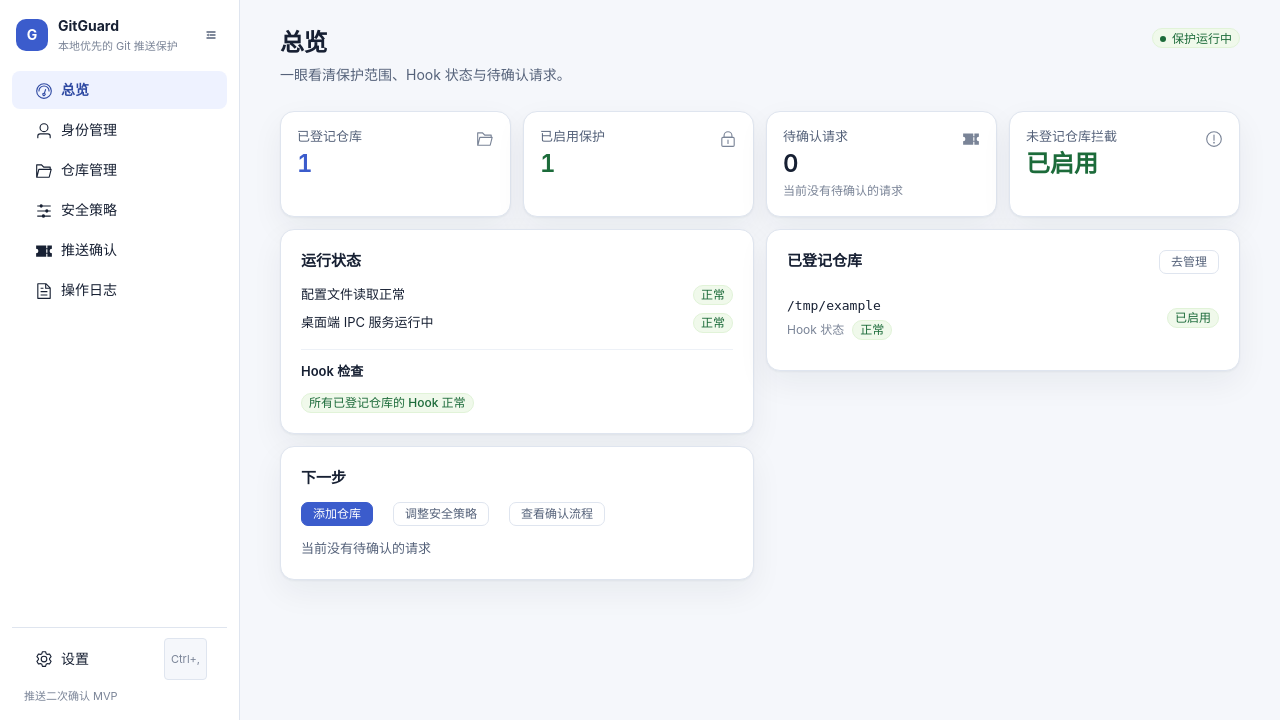
App › collapses the sidebar into icon-only navigation and remembers it
Click the button named "收起侧边栏" at (211,35), box [199,23,223,47]
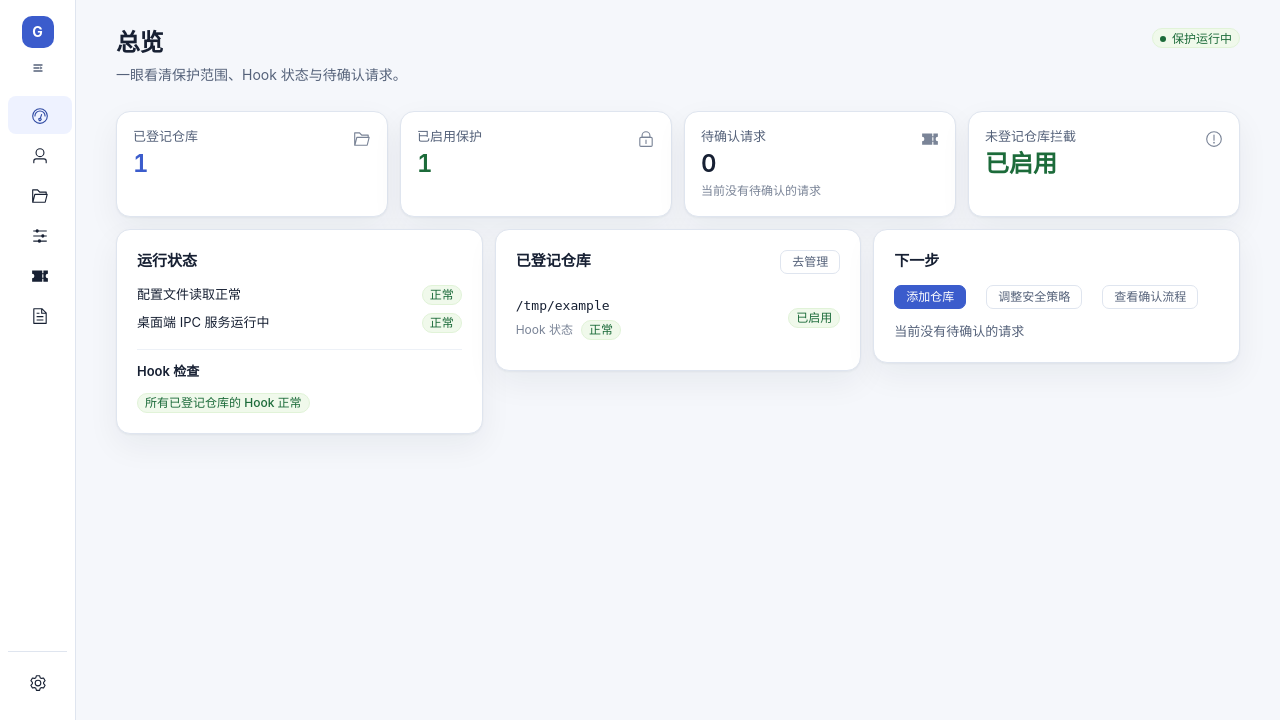
Result: the button named "展开侧边栏" is collapsed at [26,56,50,80]
Result: the text "身份管理" is gone
